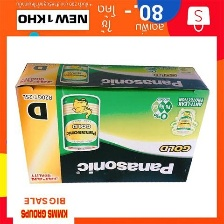book: (10, 57, 210, 188)
